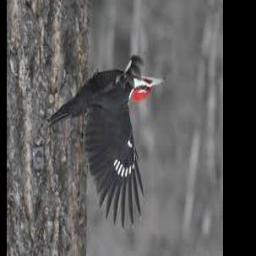Woodpecker: (46, 56, 166, 229)
